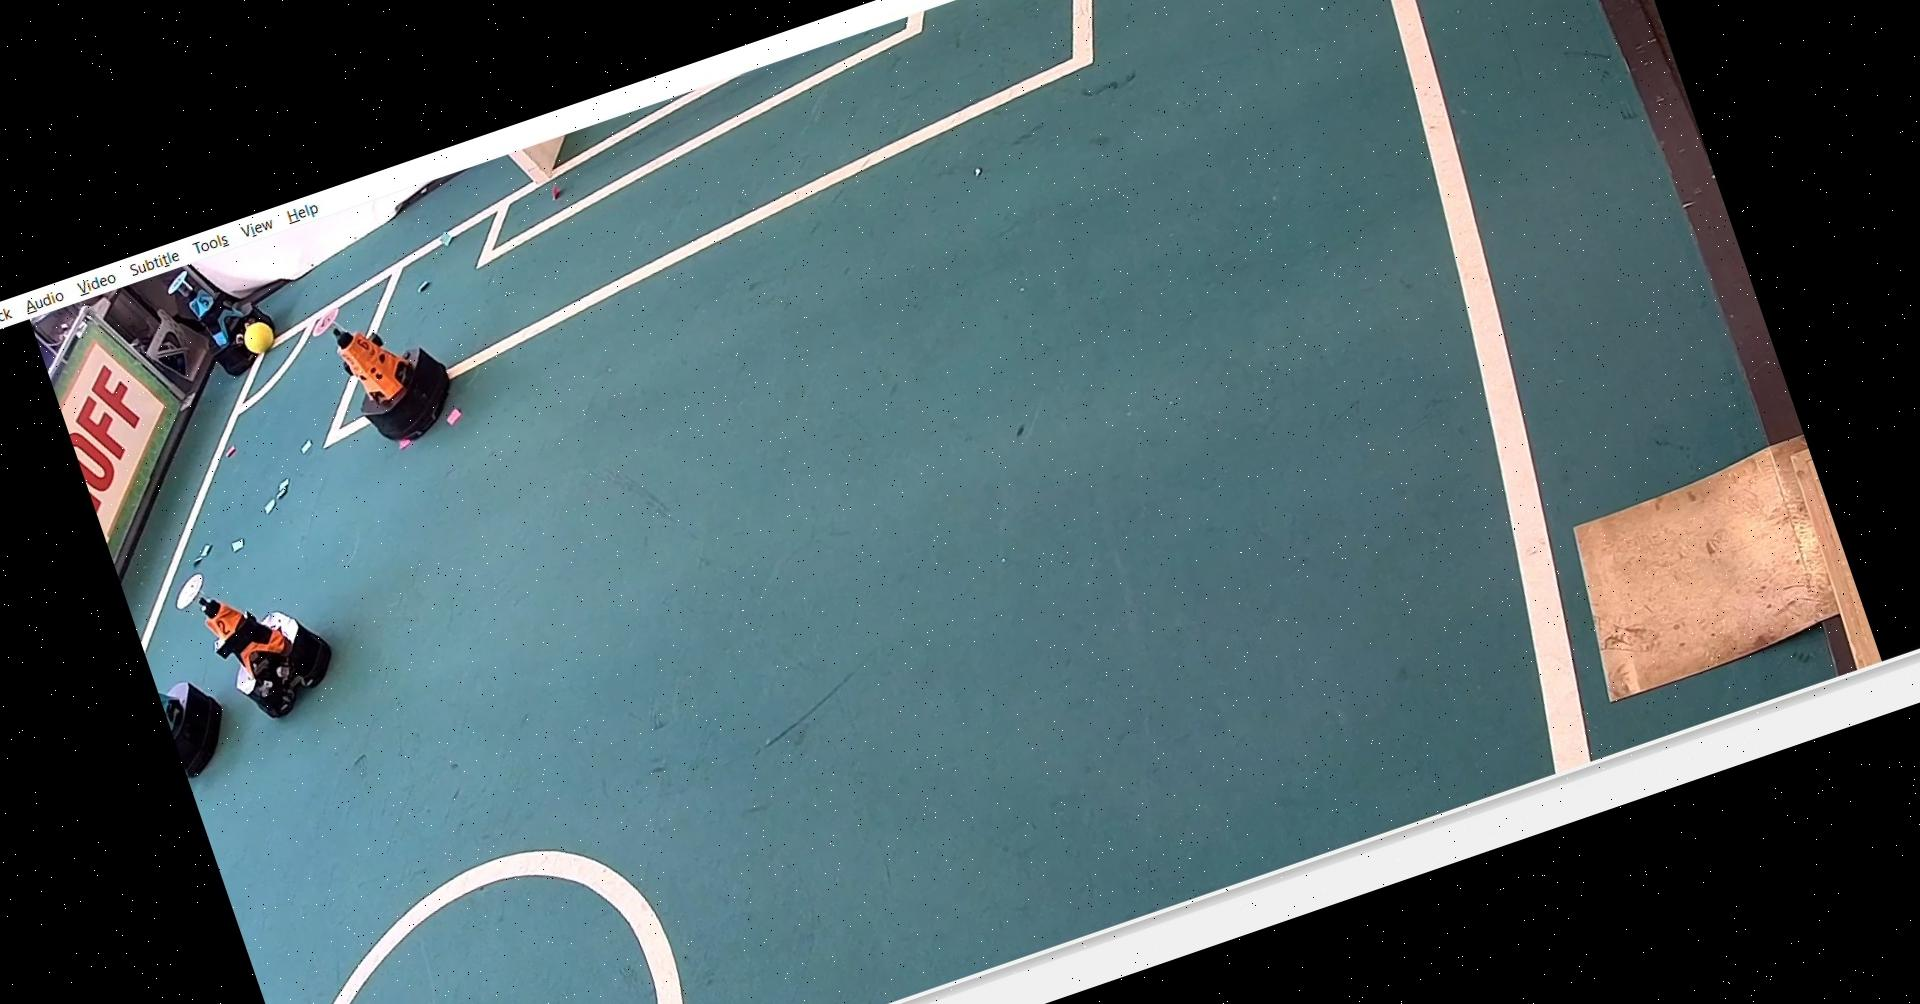Ball: (231, 310, 287, 362)
Team_Blue: (160, 250, 286, 387)
Team_Red: (169, 537, 357, 739), (305, 278, 470, 457)
